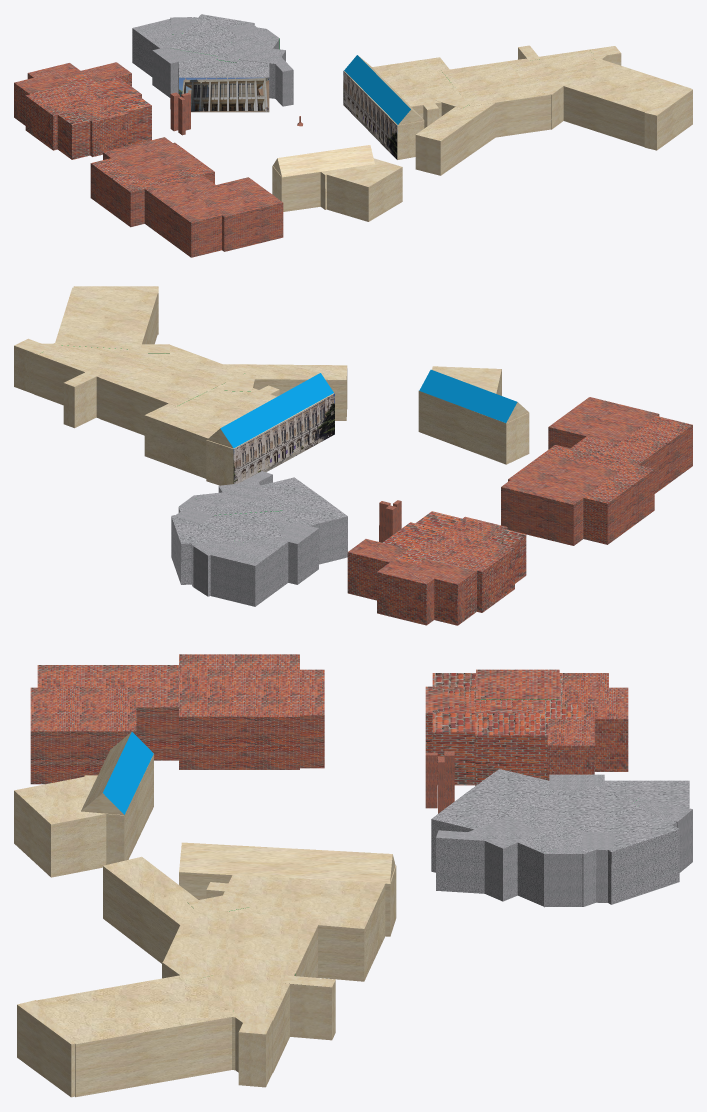
Rendered from Red Square.glb.
3 renders of one model, top to bottom at view 1: azimuth 30°, elevation 25°; view 2: azimuth 150°, elevation 25°; view 3: azimuth 270°, elevation 25°, orthographic. The views are drawn at different scales.
Size of the model in its own units: 0.4733 by 0.0417 by 0.3479.
Materials: 8 (6 with a texture image).
